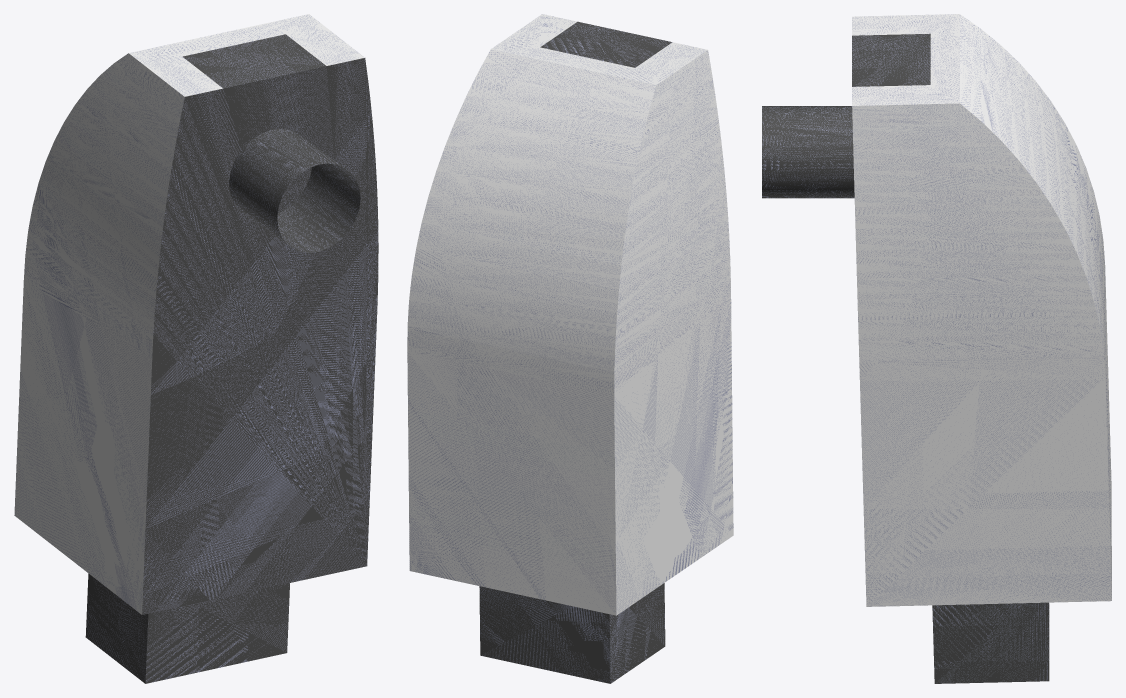
File: RB-up-leg-aibo-ers7.dae
3 renders of one model, left to right at view 1: azimuth 30°, elevation 25°; view 2: azimuth 150°, elevation 25°; view 3: azimuth 270°, elevation 25°, orthographic. The views are drawn at different scales.
Visible parts, largest first — view 1: Component_3 (×4); view 2: Component_3 (×3); view 3: Component_3 (×4).
Part boxes in pixels (x1,y1,x2,y2): Component_3 (×4): (14,14,378,683); Component_3 (×3): (407,14,733,683); Component_3 (×4): (762,14,1111,683).
Size of the model in its own units: 10.95 by 14.87 by 28.21.
